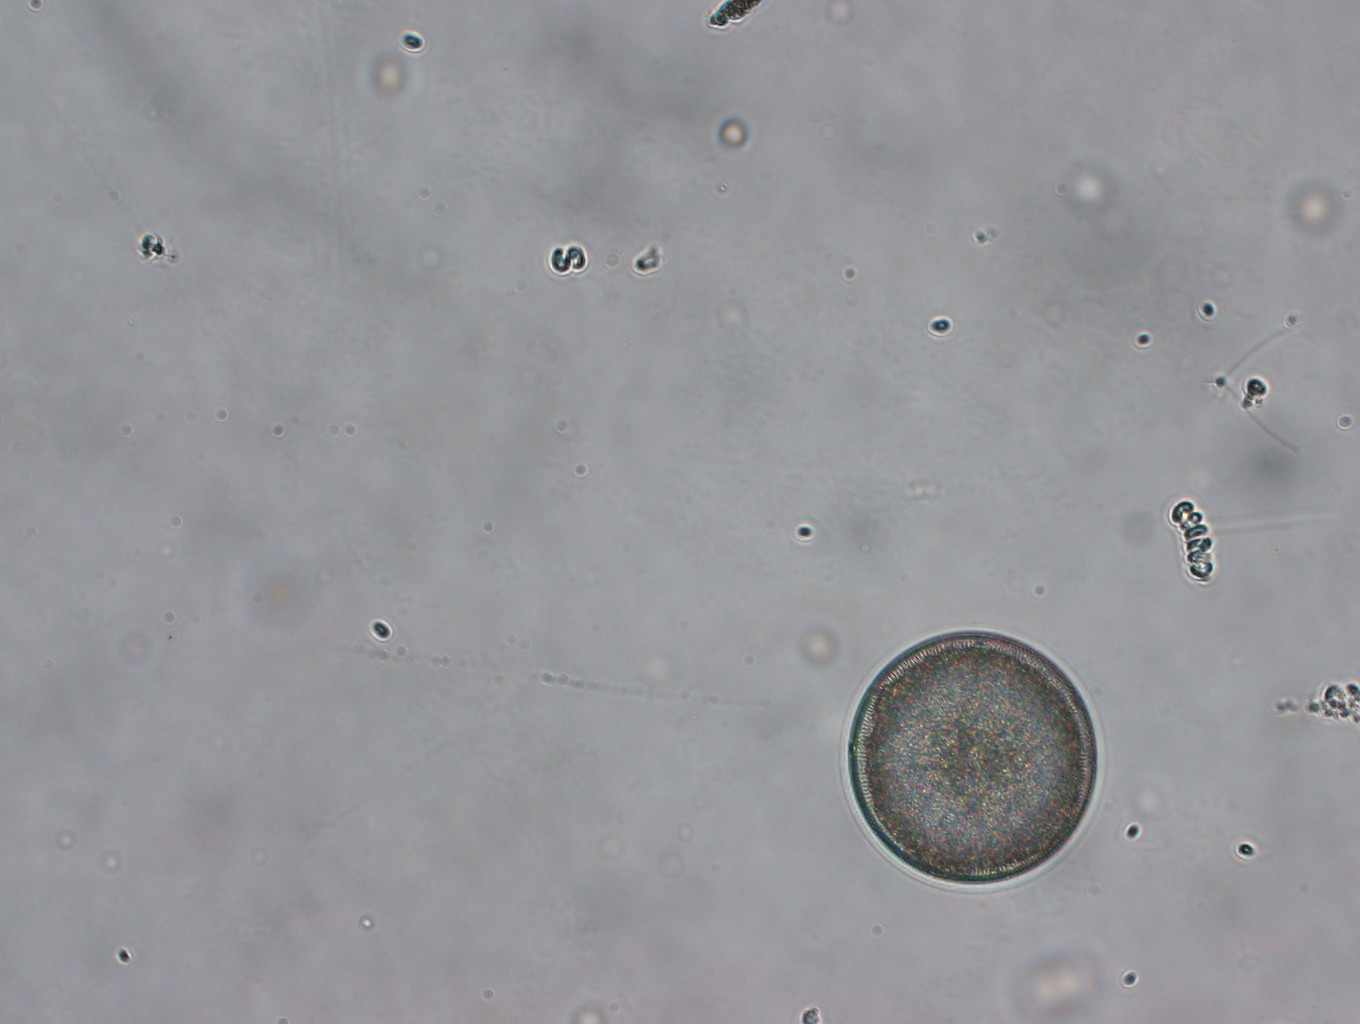coscinodiscus: (845, 627, 1099, 890)
